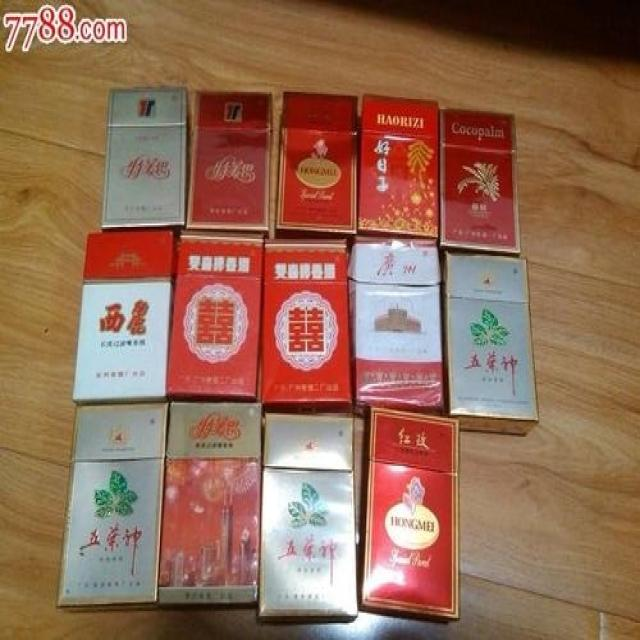box: (59, 403, 168, 613), (360, 406, 461, 626), (156, 403, 262, 609), (259, 411, 360, 623), (72, 230, 178, 408), (442, 253, 540, 437), (347, 241, 444, 418), (165, 230, 264, 401), (261, 241, 351, 415), (274, 90, 358, 251), (102, 87, 192, 229), (187, 90, 273, 237), (439, 108, 521, 259), (358, 94, 439, 237)
